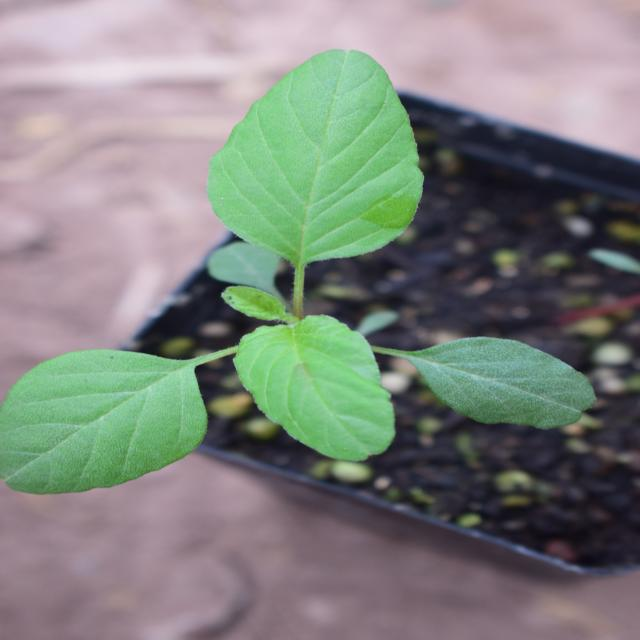pigweed: (135, 4, 591, 584)
